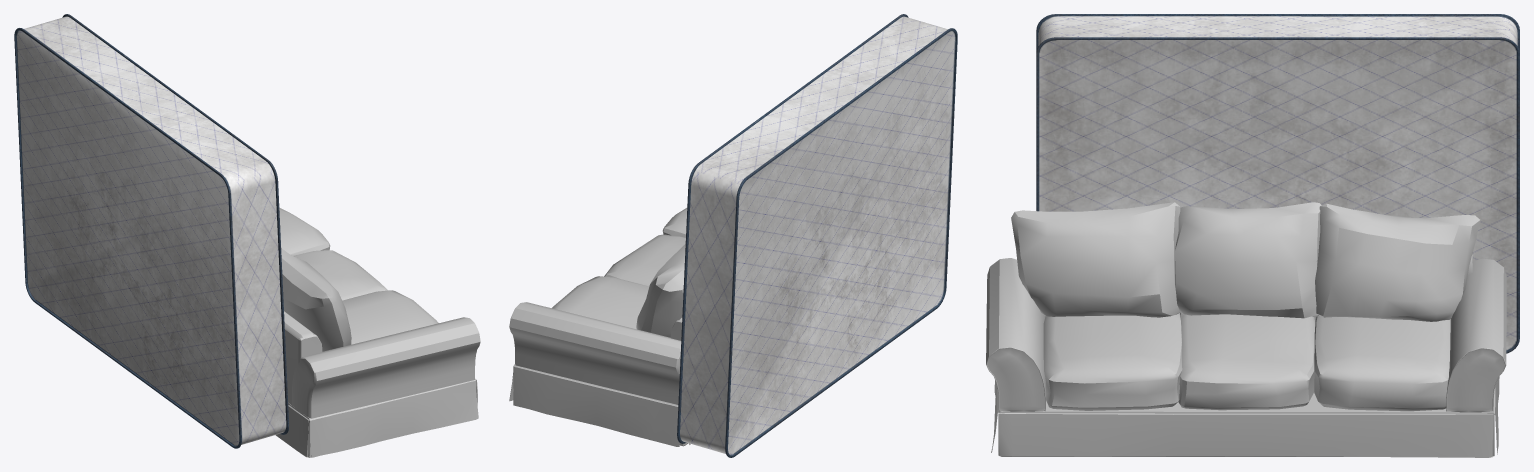
File: couch.fbx
3 renders of one model, left to right at view 1: azimuth 30°, elevation 25°; view 2: azimuth 150°, elevation 25°; view 3: azimuth 270°, elevation 25°, orthographic. The views are drawn at different scales.
Parts seen in each view (by area): view 1: Cube.005; view 2: Cube.005; view 3: Cube.005.
Part boxes in pixels (x1=…): Cube.005: x1=14, y1=14, x2=480, y2=457; Cube.005: x1=509, y1=14, x2=957, y2=457; Cube.005: x1=986, y1=14, x2=1519, y2=457.
Bounding box in the file's own units: 154 × 177 × 268.
